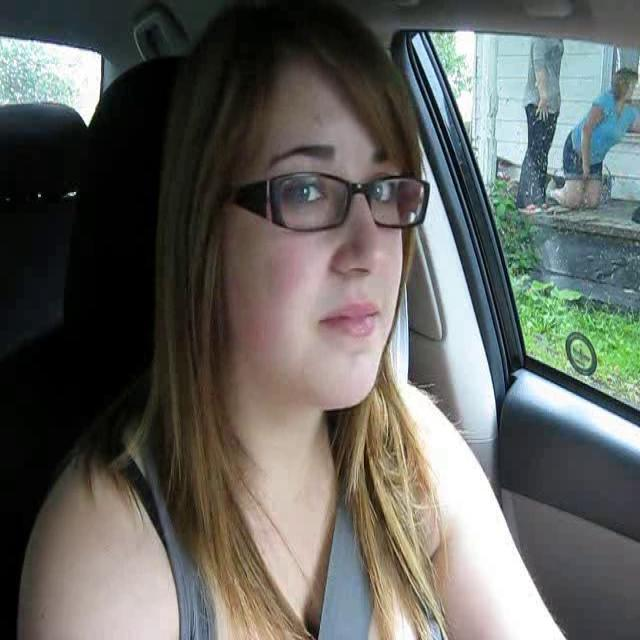close: (314, 295, 389, 341)
